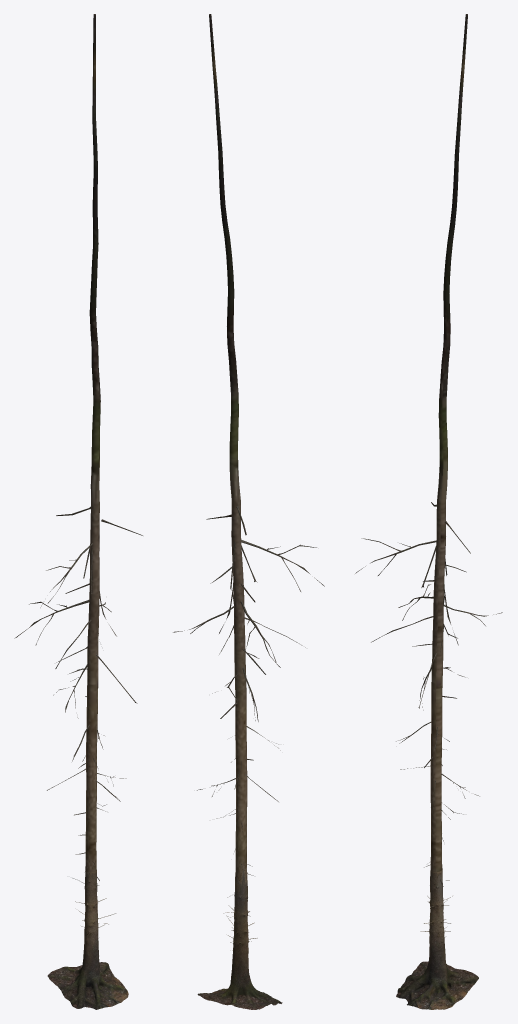
File: fir_trunk.glb
3 views of the same model, side by side, from view 1: azimuth 30°, elevation 25°; view 2: azimuth 150°, elevation 25°; view 3: azimuth 330°, elevation 25° (orthographic). The views are drawn at different scales.
Visible parts, largest first — view 1: fir_tree_01_a_LOD0; view 2: fir_tree_01_a_LOD0; view 3: fir_tree_01_a_LOD0.
Part boxes in pixels (x1,y1,x2,y2): fir_tree_01_a_LOD0: (14,14,142,1009); fir_tree_01_a_LOD0: (173,14,324,1009); fir_tree_01_a_LOD0: (355,14,502,1009).
Size of the model in its own units: 2.09 by 17.55 by 2.02.
2 materials, 2 textured.
